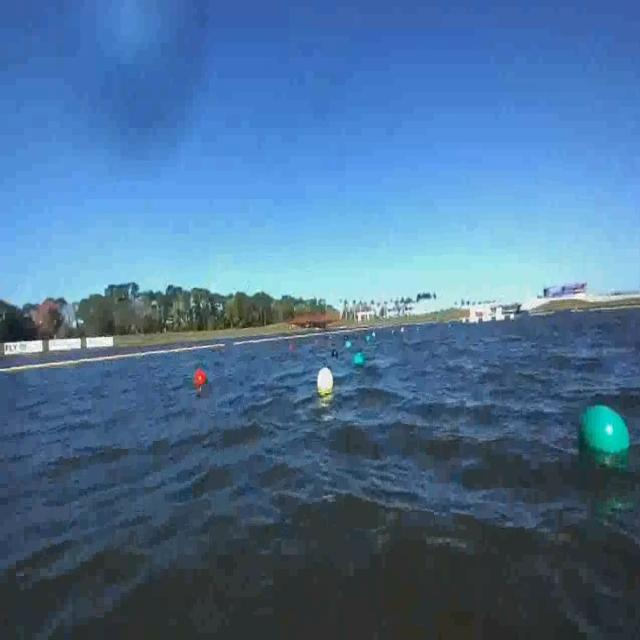green-buoy: (574, 404, 630, 466)
yellow-buoy: (316, 367, 334, 397)
